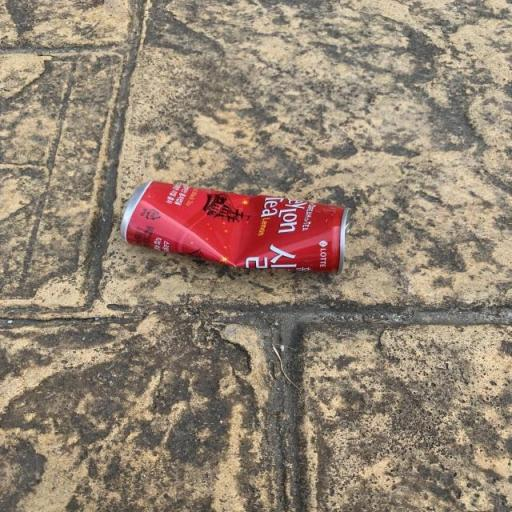metal: (89, 158, 385, 310)
